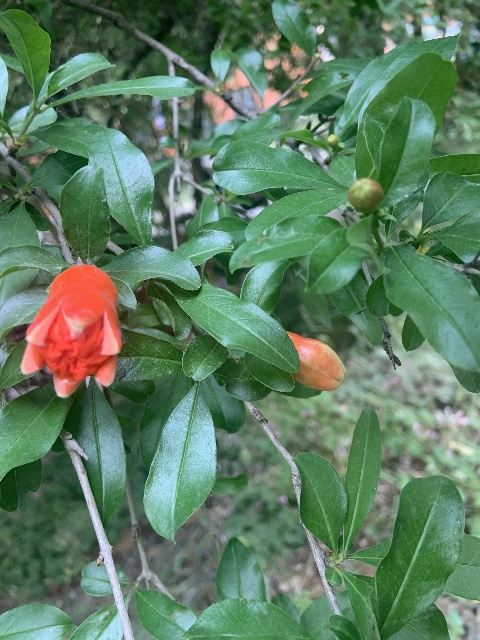bud: (286, 331, 345, 391), (347, 178, 384, 214)
flower: (20, 264, 121, 398)
